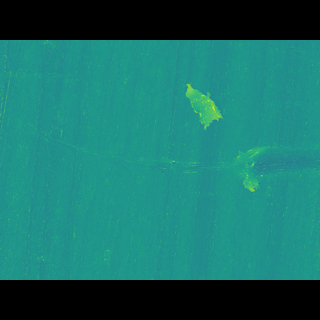Loch: (135, 146, 320, 184), (179, 100, 227, 139)
